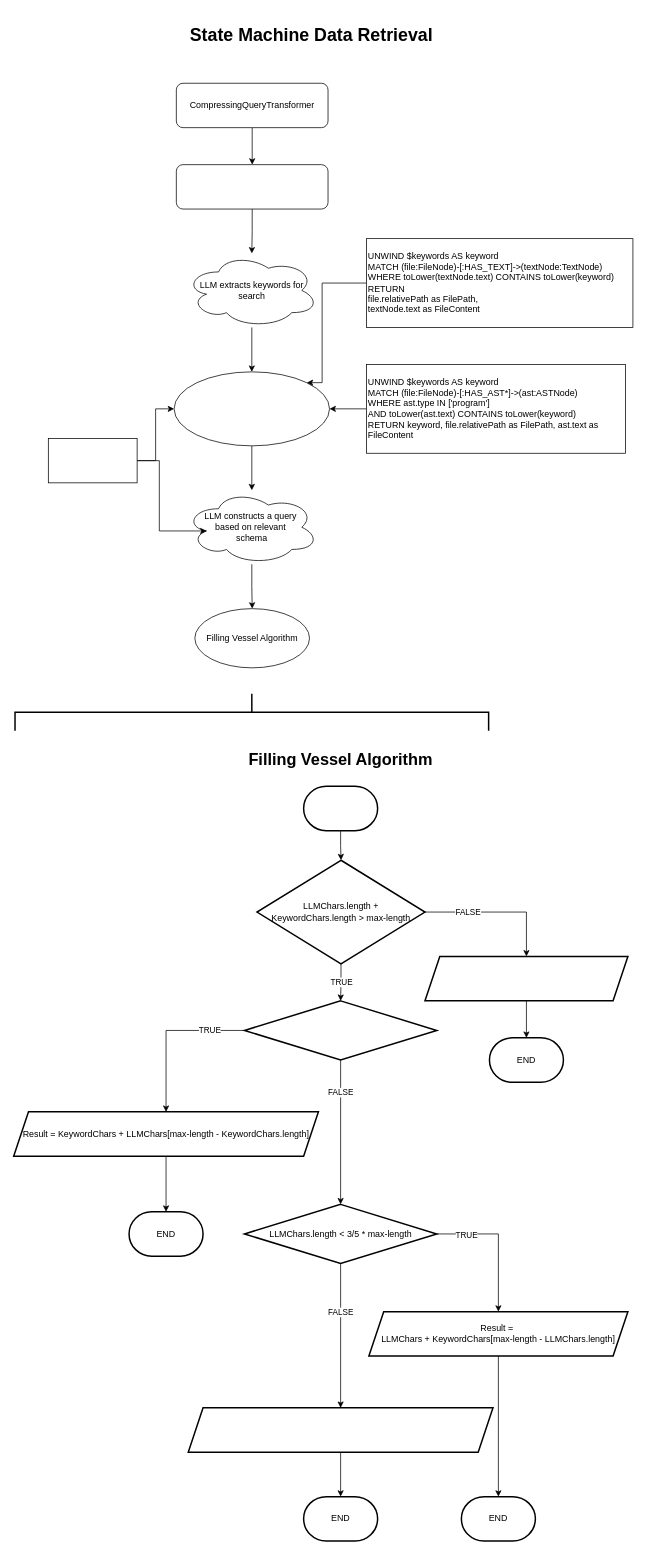
This 646x1555 diagram has some shape labels left out. Each missing label, with the centre of its shape:
CodebaseContentRetriever: [252,186]
General Cypher query within File, AST and Text nodes for keywords: [251,408]
Inject relevant schema and file relative paths: [92,460]
KeywordChars.length < 2/5 * max-length: [340,1030]
Result = KeywordChars[max-length * 2/5] + LLMChars[max-length * 3/5]: [340,1430]
Result = LLMChars + KeywordChars: [526,978]
Start: [340,808]
